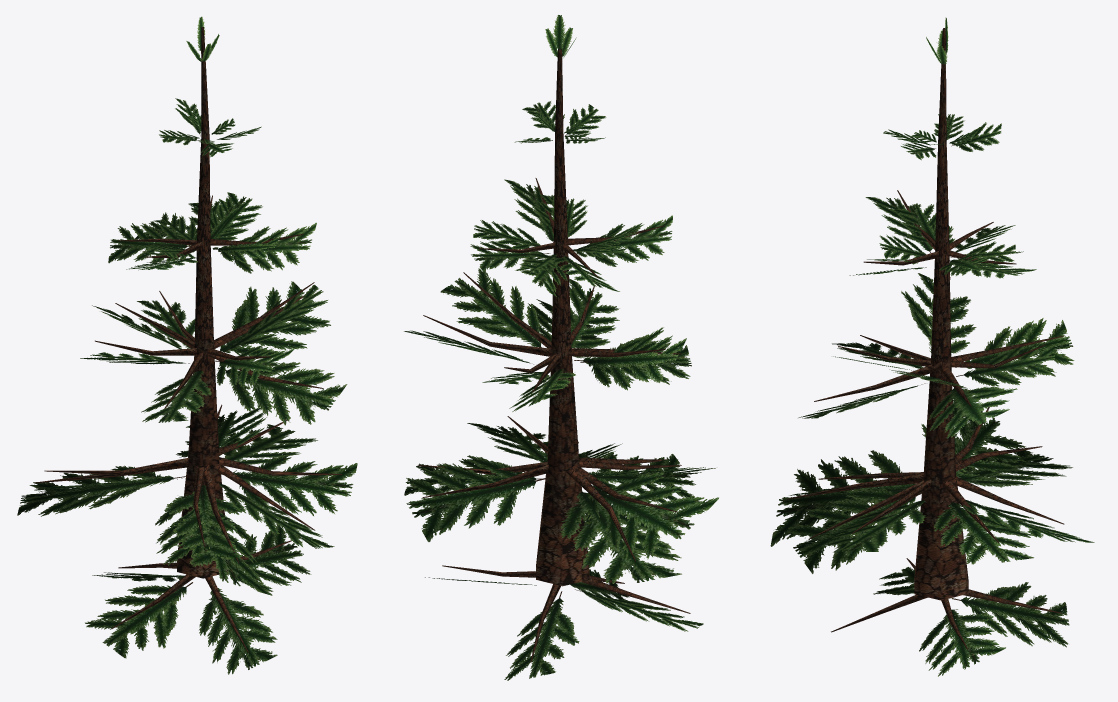
Rendered from pine-medium-lite.glb.
The picture shows the model from 3 angles, left to right: view 1: azimuth 30°, elevation 25°; view 2: azimuth 150°, elevation 25°; view 3: azimuth 270°, elevation 25°; orthographic projection. The views are drawn at different scales.
Visible parts, largest first — view 1: pine_medium_lite; view 2: pine_medium_lite; view 3: pine_medium_lite.
Part boxes in pixels (<box>): pine_medium_lite: <box>17,16,357,674</box>; pine_medium_lite: <box>404,15,718,680</box>; pine_medium_lite: <box>770,17,1094,676</box>.
Bounding box in the file's own units: 6.53 × 12.63 × 5.92.
Materials: 1 (1 with a texture image).
